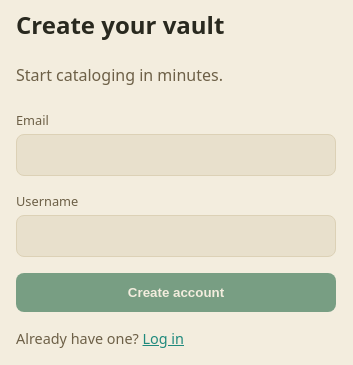
Scenario: SignupComponent › disables submit while the request is in flight
The image size is (353, 365).
Type "aldric@realm.com" into the field labelled "Email".
click(176, 155); type("aldric@realm.com")  # box [16, 134, 336, 176]
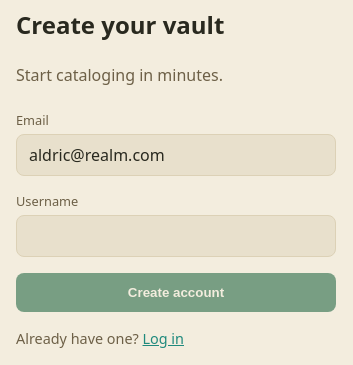
Type "aldric" into the field labelled "Username".
click(176, 236); type("aldric")  # box [16, 215, 336, 257]
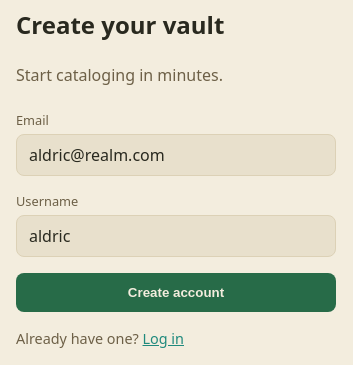
Submit the form, box [16, 111, 336, 312]
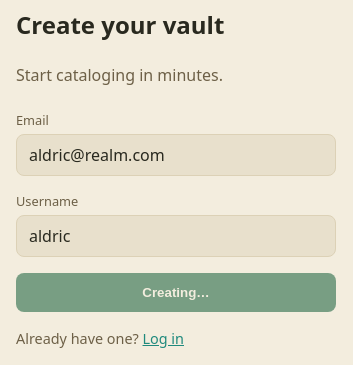
Result: the submit button is disabled at [16, 273, 336, 312]
Result: the submit button shows "Creating" at [16, 273, 336, 312]
